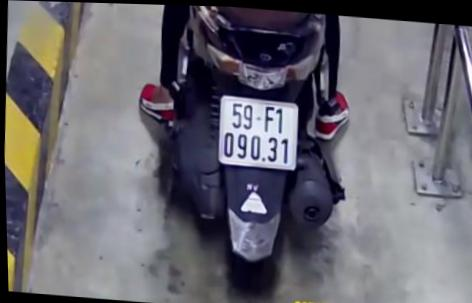LP: (214, 91, 301, 170)
